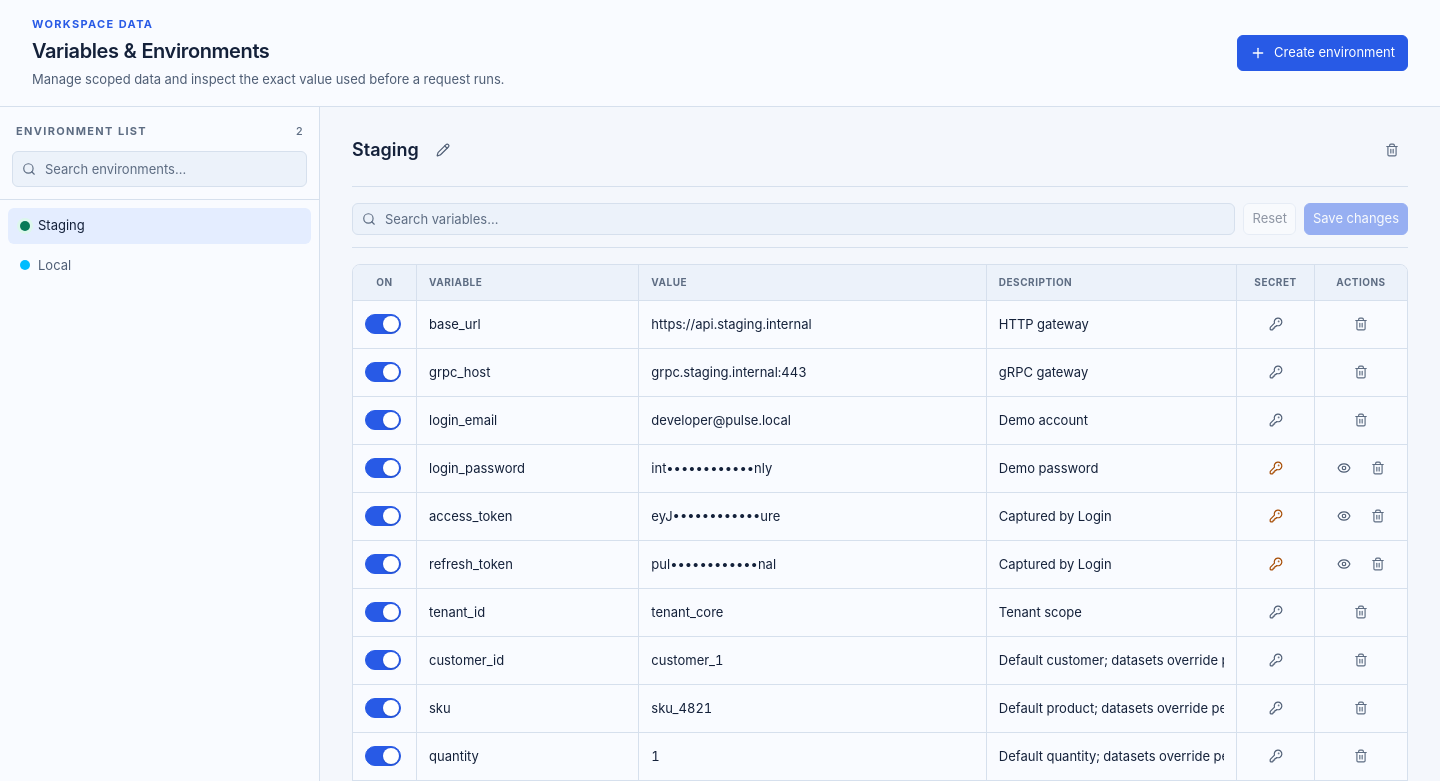
Test: environment variable editor › creates a blank environment for editing without making it active
Click the button "Create environment" at point(1322, 53), box top-left (1237, 35), bottom-right (1408, 71)
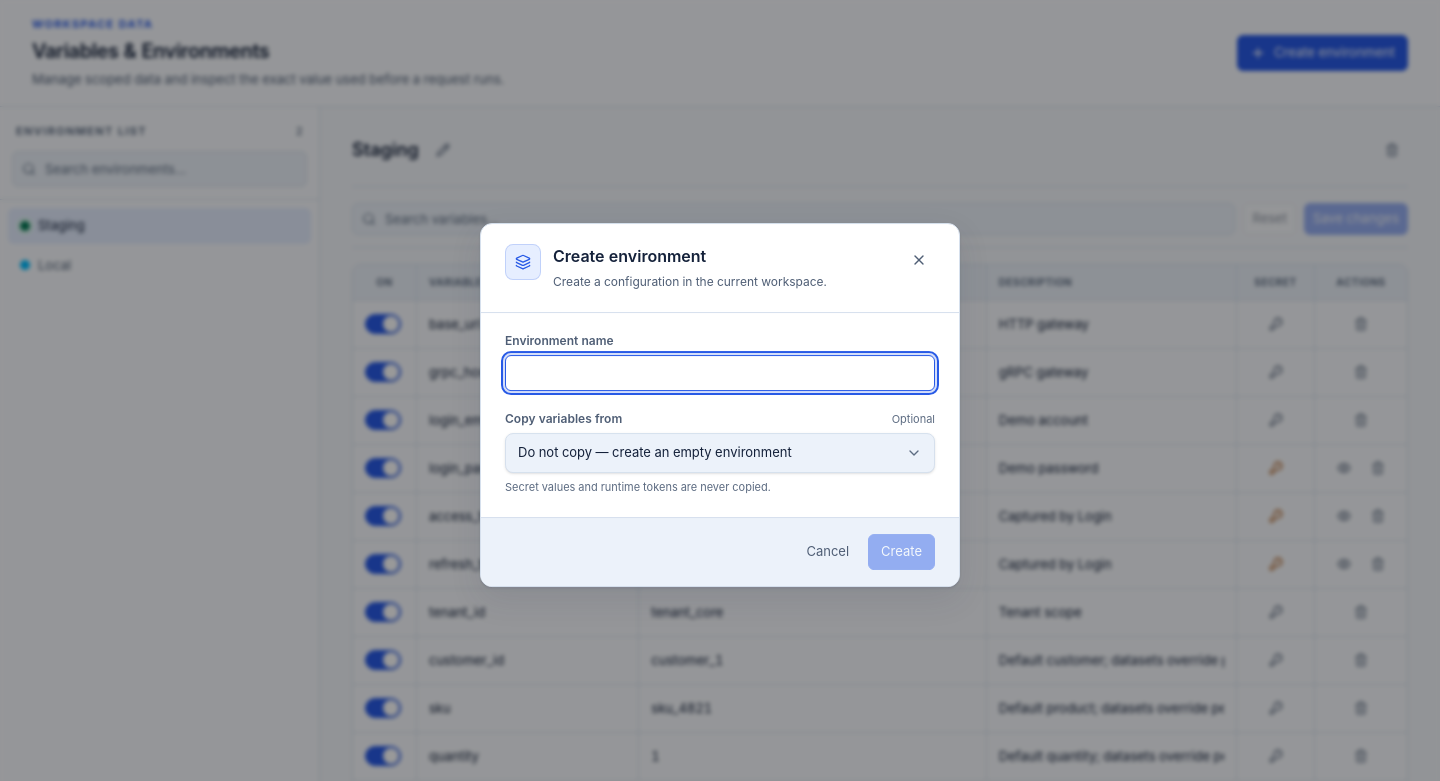
Type "QA" into the field labelled "Environment name" at point(720, 373), box top-left (505, 355), bottom-right (935, 391)
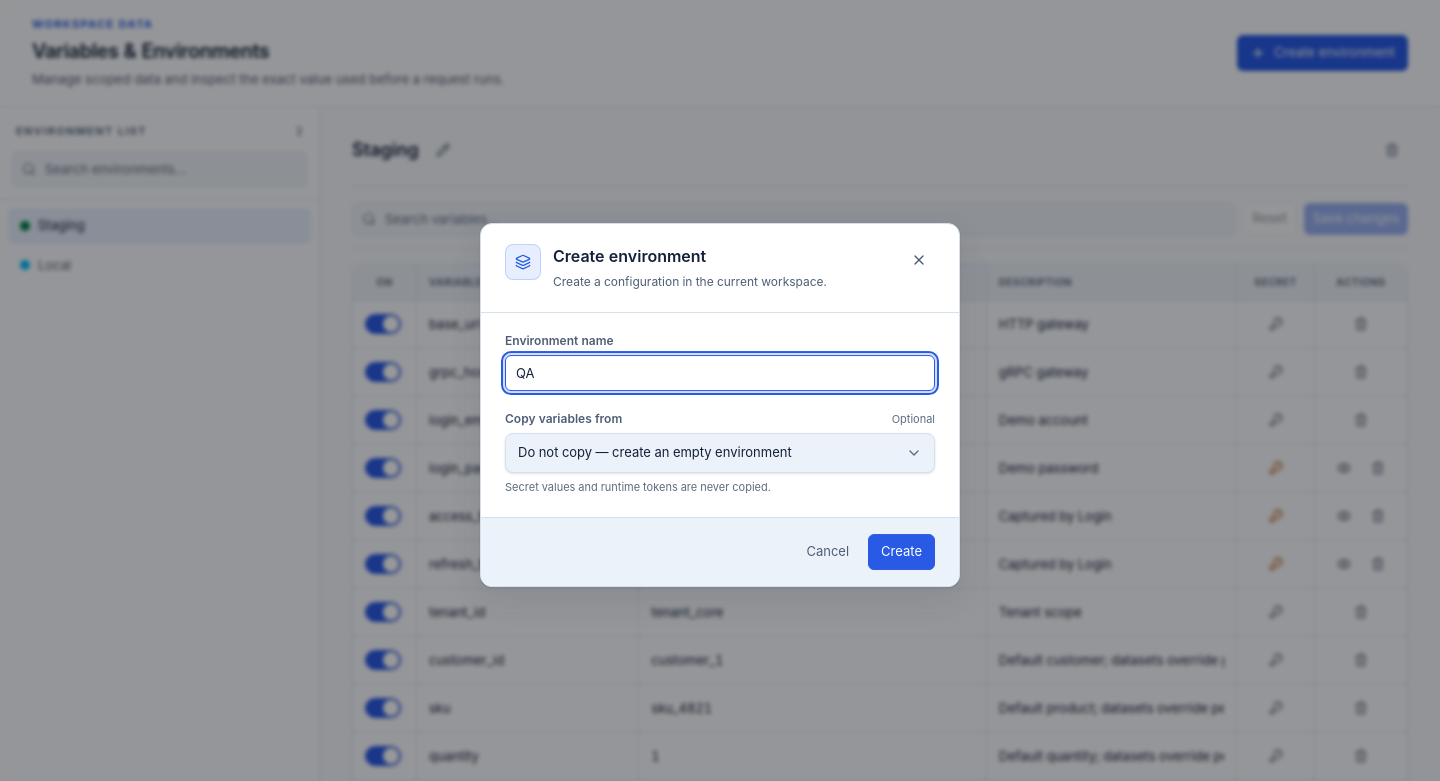
Click the button "Create" at point(902, 552), box top-left (868, 534), bottom-right (935, 570)
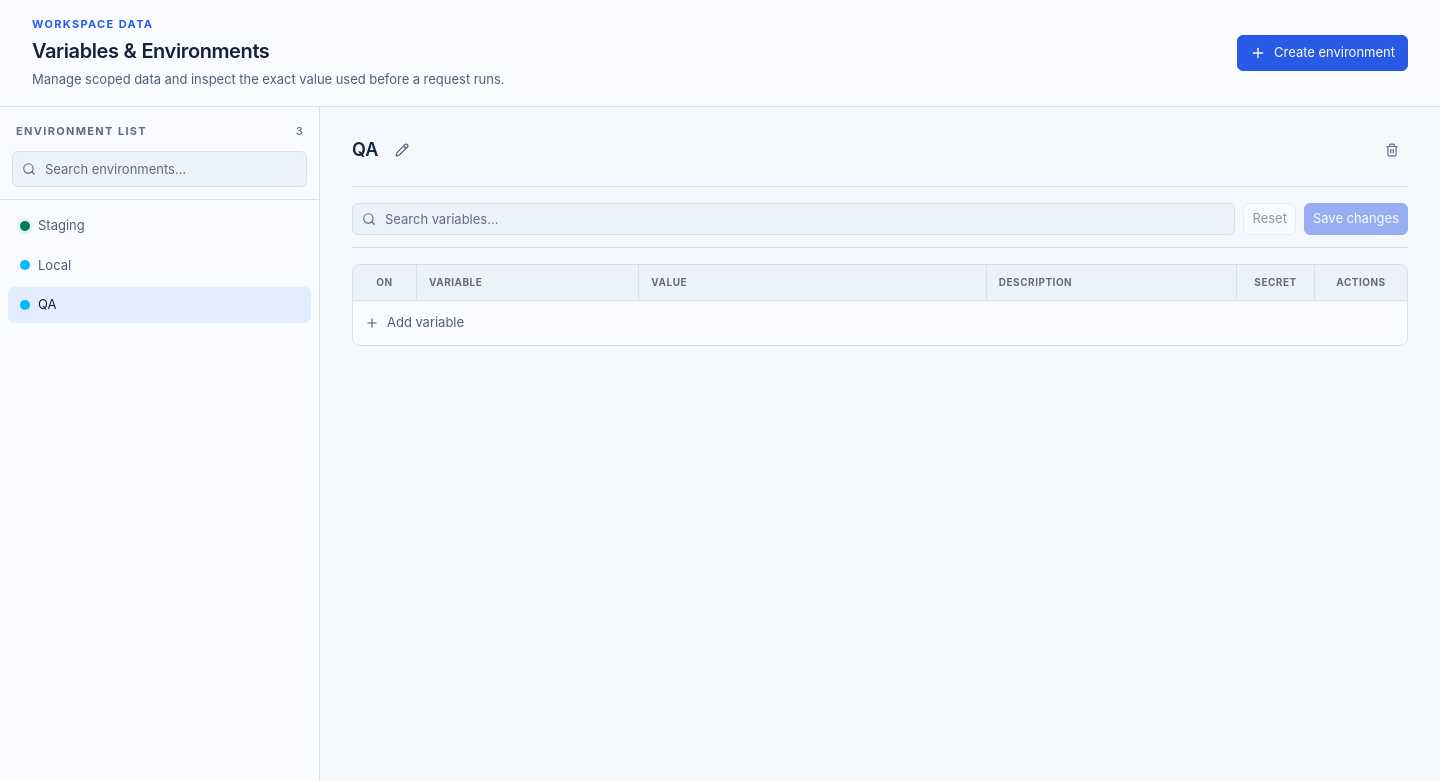
Check: the heading "QA" is shown, box top-left (352, 136), bottom-right (378, 164)
